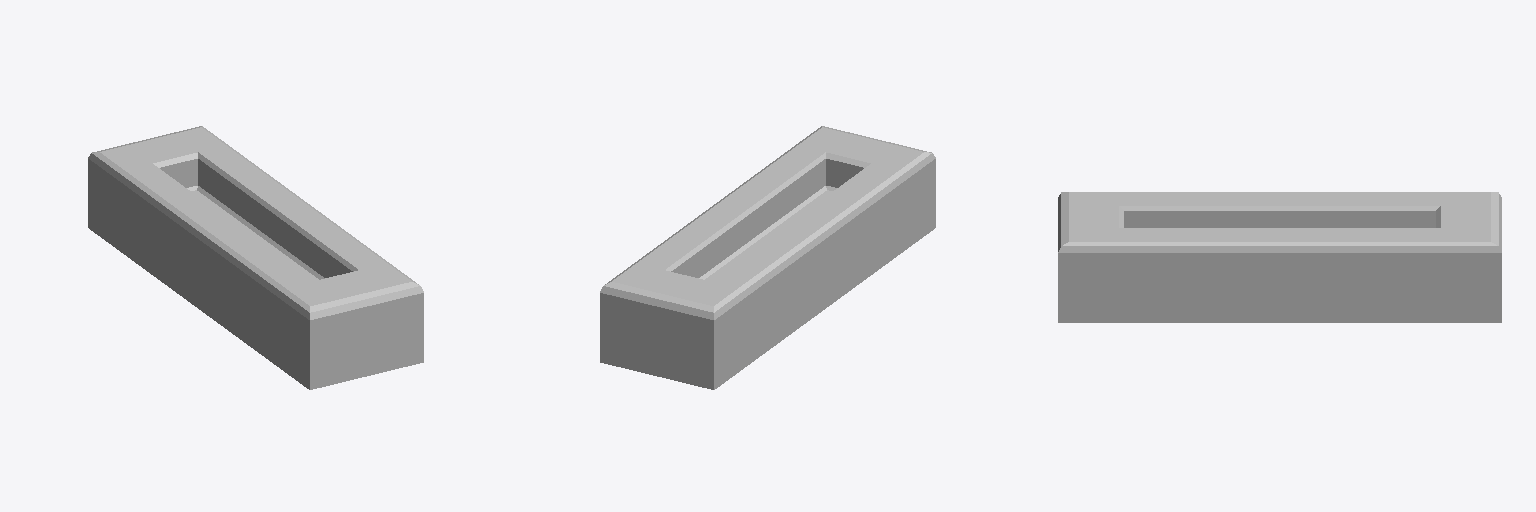
The model's file is packa_B_1.obj.
3 renders of one model, left to right at view 1: azimuth 30°, elevation 25°; view 2: azimuth 150°, elevation 25°; view 3: azimuth 270°, elevation 25°, orthographic.
Visible parts, largest first — view 1: Cube.006; view 2: Cube.006; view 3: Cube.006.
Boxes of the visible parts, <box> form: Cube.006: <box>88,126,423,389</box>; Cube.006: <box>600,126,935,389</box>; Cube.006: <box>1058,192,1501,322</box>.
Bounding box in the file's own units: 0.0896 × 0.0587 × 0.3013.